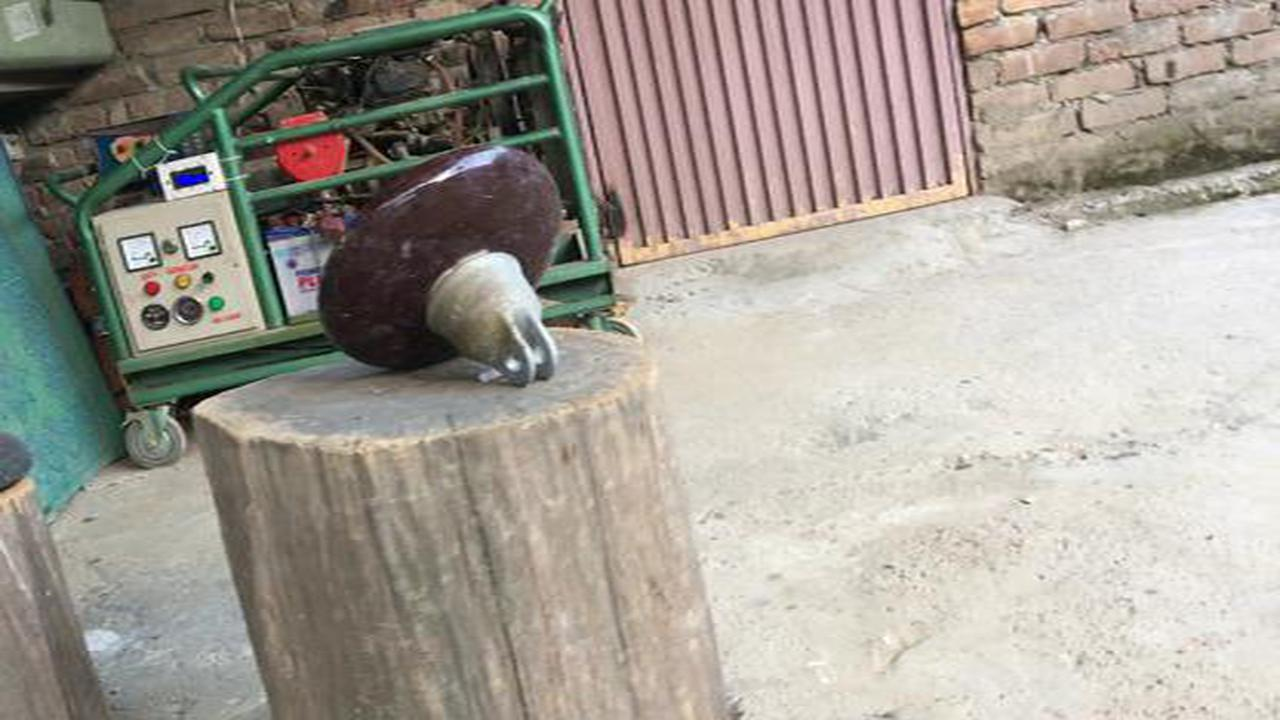insulator_disc: (314, 136, 569, 390)
